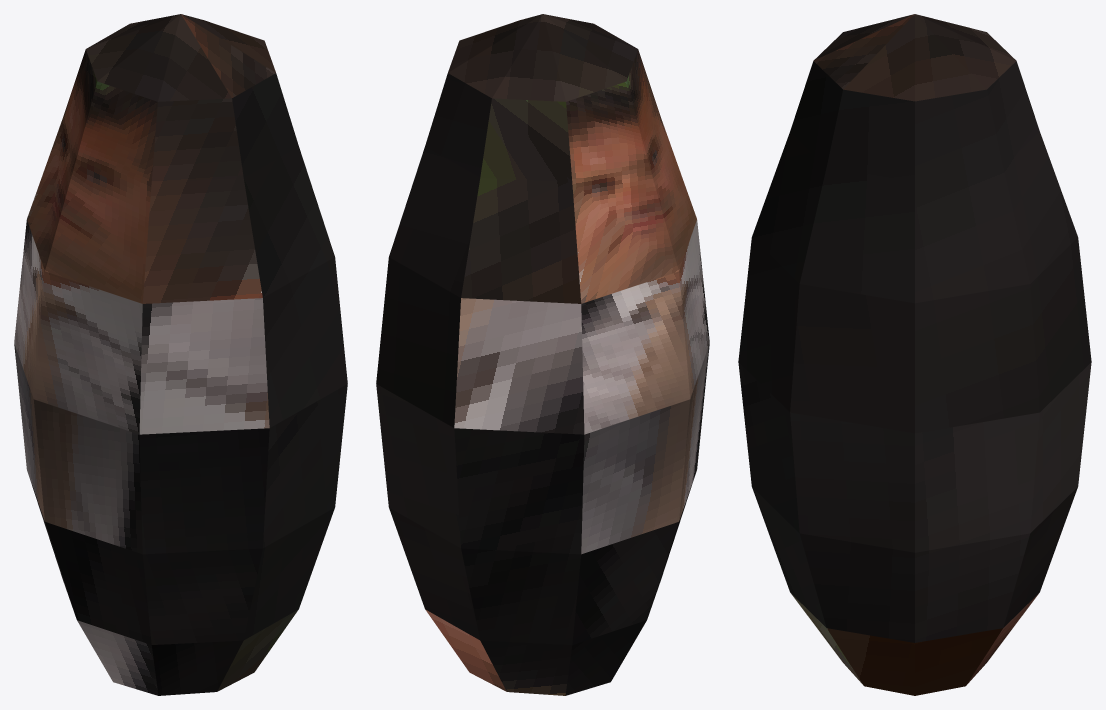
The model's file is antonije.glb.
3 views of the same model, side by side, from view 1: azimuth 30°, elevation 25°; view 2: azimuth 150°, elevation 25°; view 3: azimuth 270°, elevation 25° (orthographic).
Parts seen in each view (by area): view 1: Sphere; view 2: Sphere; view 3: Sphere.
Part boxes in pixels (left/top/right/bottom): Sphere: left=14, top=14, right=347, bottom=695; Sphere: left=376, top=14, right=709, bottom=695; Sphere: left=738, top=14, right=1091, bottom=695.
Size of the model in its own units: 0.9421 by 2.07 by 0.9824.
1 material, 1 textured.
